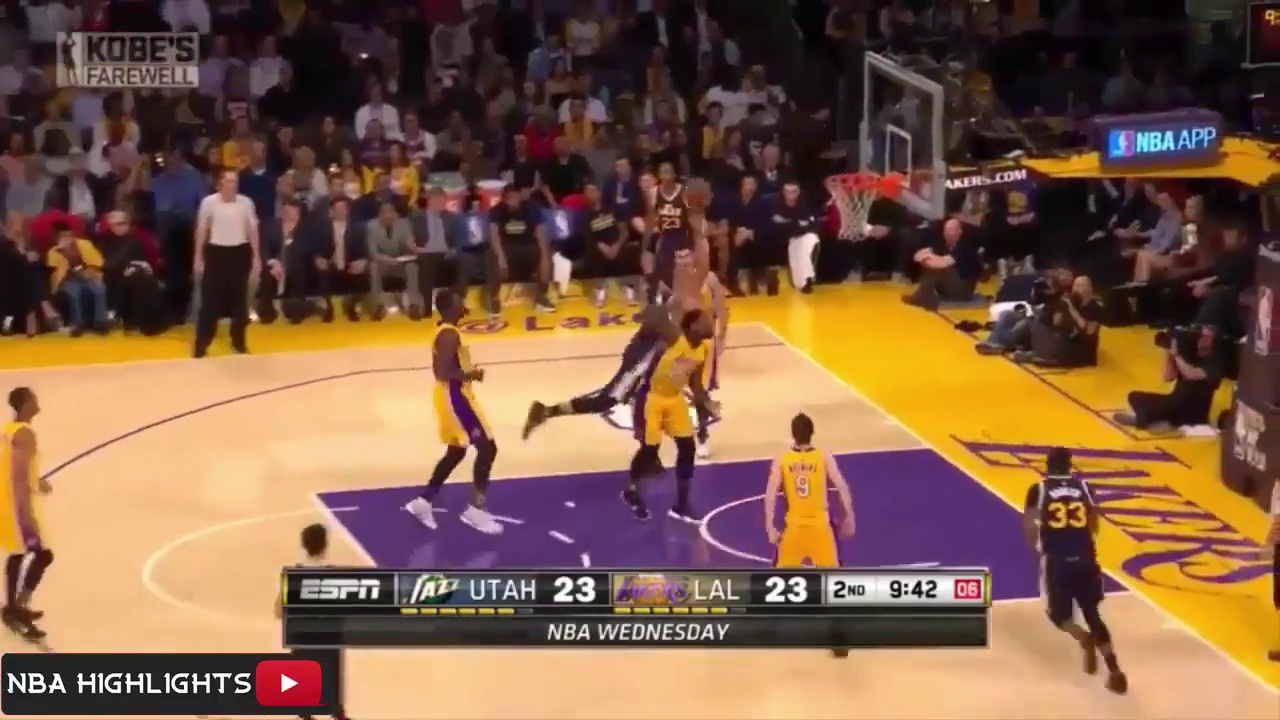jazz: (1024, 442, 1136, 694), (527, 275, 688, 443), (646, 153, 707, 295)
lakers: (401, 274, 510, 537), (635, 307, 731, 522), (1, 371, 74, 646), (755, 398, 859, 568)
